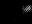person: (24, 5, 31, 13)
